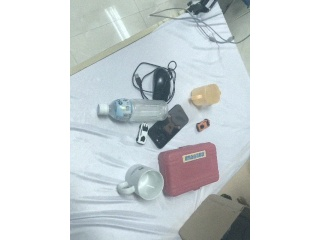bottle: (97, 97, 169, 124)
box: (158, 141, 220, 197), (178, 194, 249, 240)
cup: (117, 163, 163, 201), (190, 83, 222, 108)
mouse: (151, 68, 173, 100)
phone: (148, 103, 189, 150)
toy_car: (135, 124, 149, 145), (196, 118, 210, 132)
